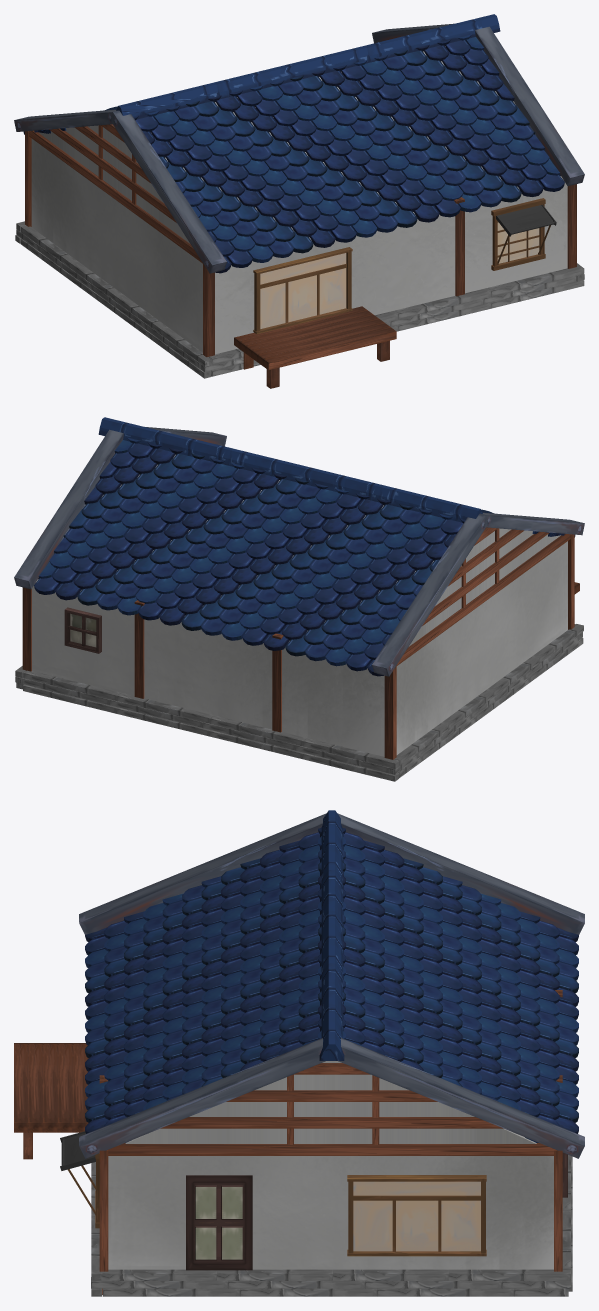
The model's file is Nha 8.fbx.
The picture shows the model from 3 angles, top to bottom: view 1: azimuth 30°, elevation 25°; view 2: azimuth 150°, elevation 25°; view 3: azimuth 270°, elevation 25°; orthographic projection. The views are drawn at different scales.
Visible parts, largest first — view 1: Cube.023; view 2: Cube.023; view 3: Cube.023.
Boxes of the visible parts, x1=… form: Cube.023: x1=14, y1=14, x2=584, y2=388; Cube.023: x1=14, y1=417, x2=584, y2=781; Cube.023: x1=14, y1=810, x2=584, y2=1296.
Bounding box in the file's own units: 1295 × 645 × 1302.
